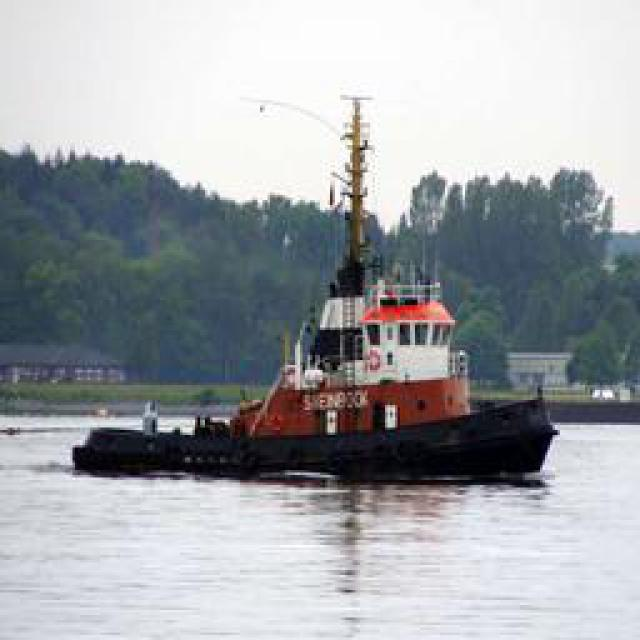Ship: (86, 206, 551, 479)
